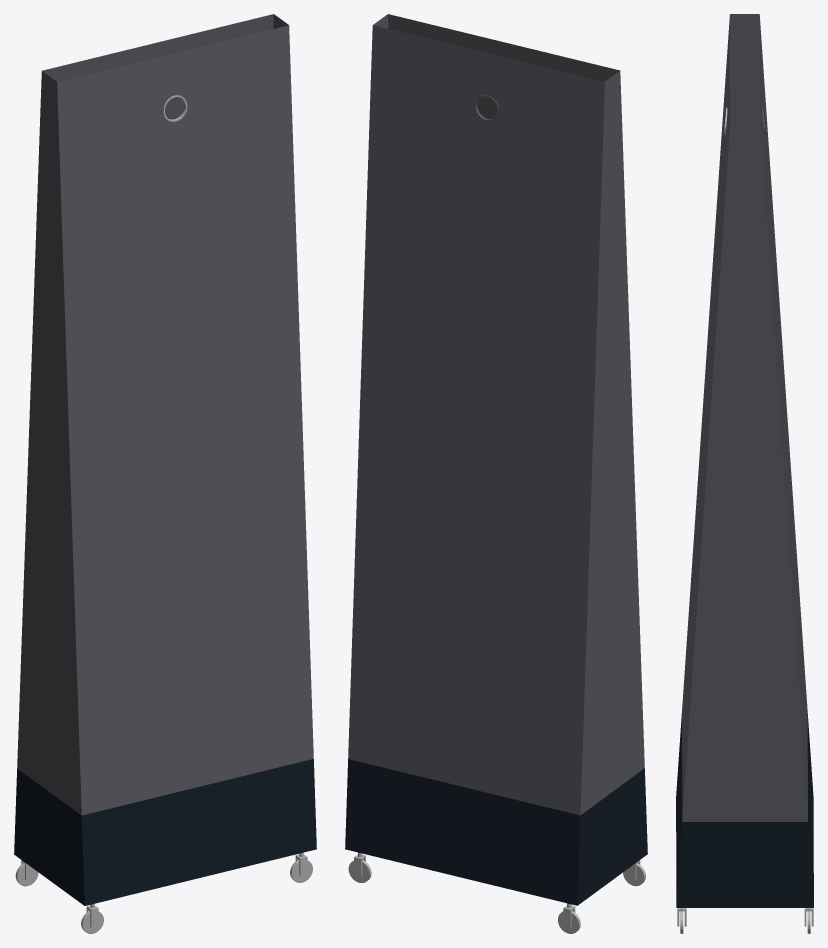
File: IKEA-Marek_Floor_Lamp-3D.obj
The picture shows the model from 3 angles, left to right: view 1: azimuth 30°, elevation 25°; view 2: azimuth 150°, elevation 25°; view 3: azimuth 270°, elevation 25°; orthographic projection. The views are drawn at different scales.
Visible parts, largest first — view 1: Cylinder01; view 2: Cylinder01; view 3: Cylinder01.
Boxes of the visible parts, x1,y1,x2,y2 form: Cylinder01: (14,14,316,933); Cylinder01: (345,14,647,933); Cylinder01: (676,14,813,933).
Bounding box in the file's own units: 46.6 × 160 × 24.56.
